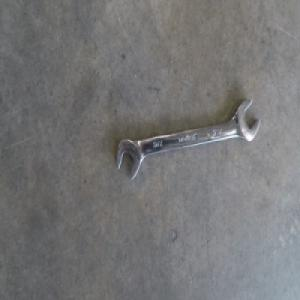Wrench: (109, 98, 254, 182)
